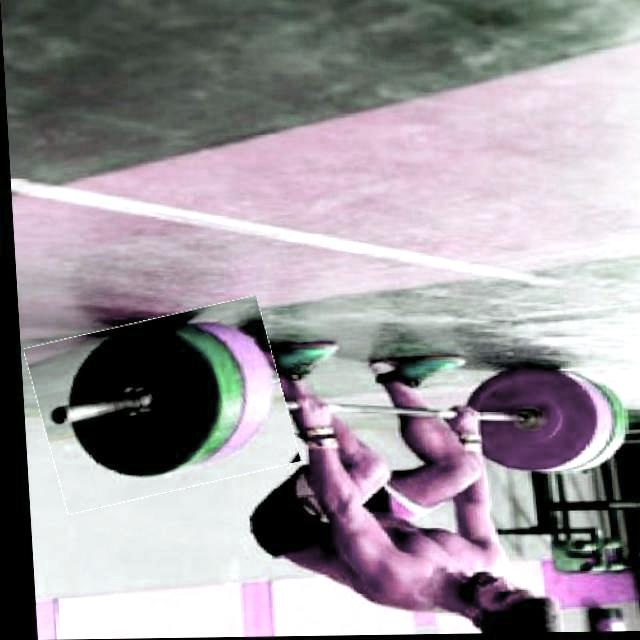barbell: (25, 308, 291, 504)
